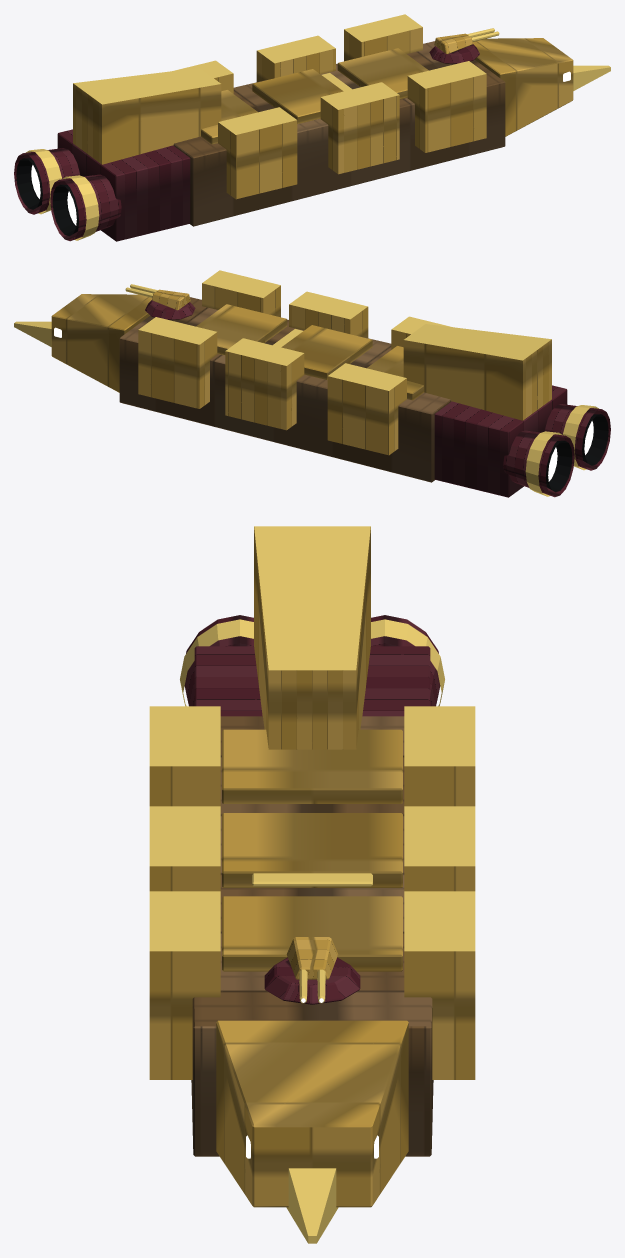
File: armed_merchant.glb
3 renders of one model, top to bottom at view 1: azimuth 30°, elevation 25°; view 2: azimuth 150°, elevation 25°; view 3: azimuth 270°, elevation 25°, orthographic. The views are drawn at different scales.
Parts seen in each view (by area): view 1: armed_merchant; view 2: armed_merchant; view 3: armed_merchant.
Boxes of the visible parts, bbox=[...] form: armed_merchant: bbox=[14, 14, 610, 241]; armed_merchant: bbox=[14, 270, 610, 497]; armed_merchant: bbox=[149, 526, 475, 1243].
Size of the model in its own units: 38 by 8.25 by 9.52.
Materials: 1 (1 with a texture image).
